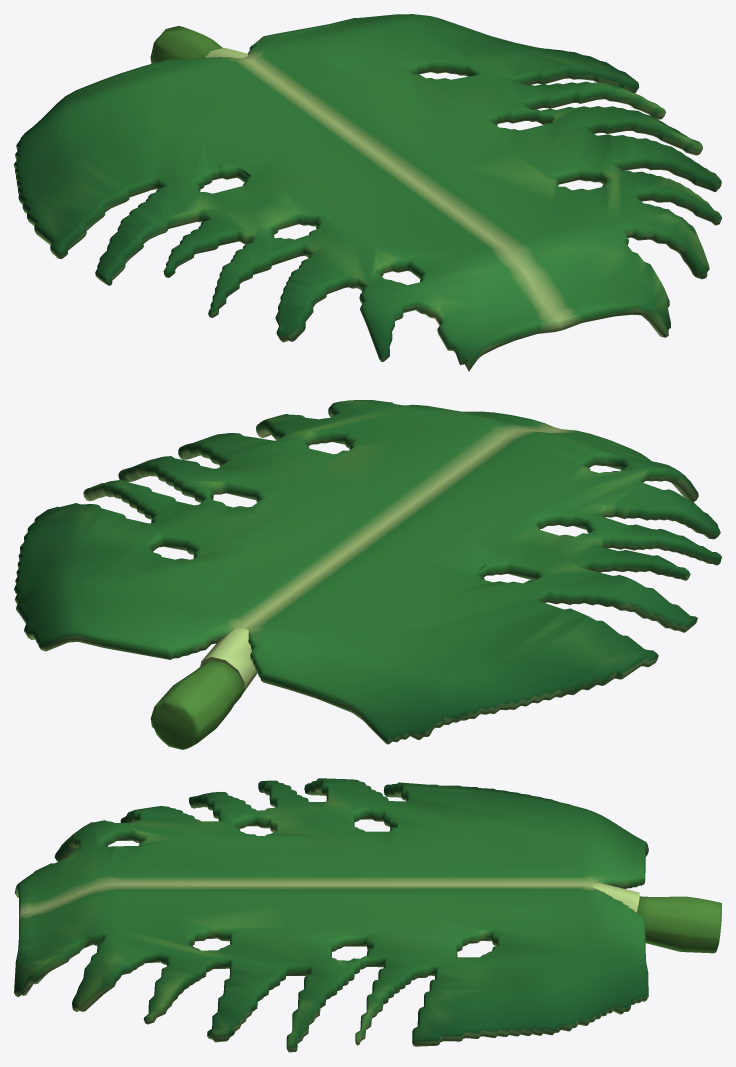
The model's file is canopy_monstera_leaf_b.glb.
The picture shows the model from 3 angles, top to bottom: view 1: azimuth 30°, elevation 25°; view 2: azimuth 150°, elevation 25°; view 3: azimuth 270°, elevation 25°; orthographic projection. The views are drawn at different scales.
Visible parts, largest first — view 1: canopy_monstera_leaf_b; view 2: canopy_monstera_leaf_b; view 3: canopy_monstera_leaf_b.
Part boxes in pixels (x1,y1,x2,y2): canopy_monstera_leaf_b: (14, 14, 721, 371); canopy_monstera_leaf_b: (14, 400, 721, 749); canopy_monstera_leaf_b: (14, 778, 721, 1052).
Bounding box in the file's own units: 10.96 × 1.34 × 12.43.
